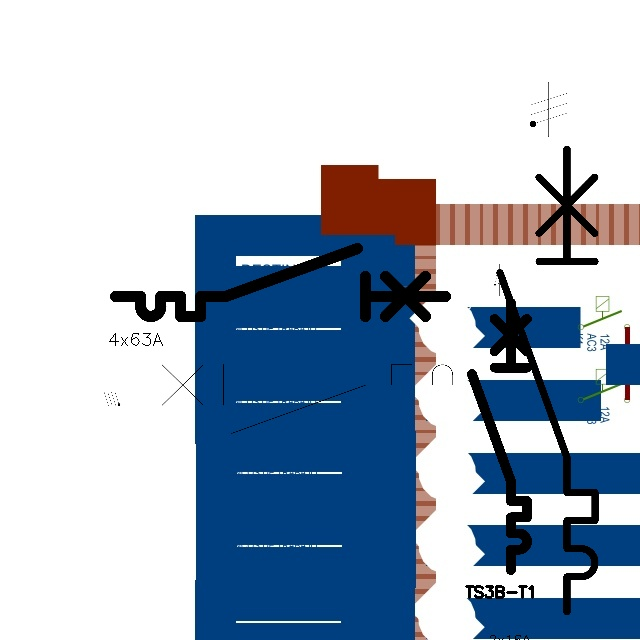interruptor_termomagnetico: (488, 137, 607, 624), (133, 356, 487, 442), (107, 240, 454, 325), (465, 295, 534, 576)
